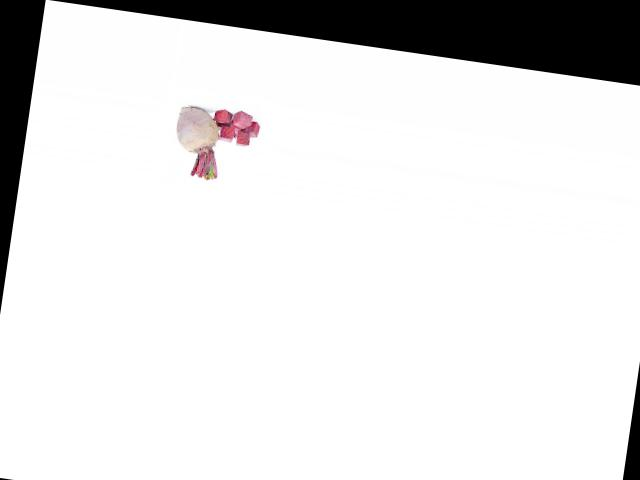beet: (170, 104, 227, 180)
